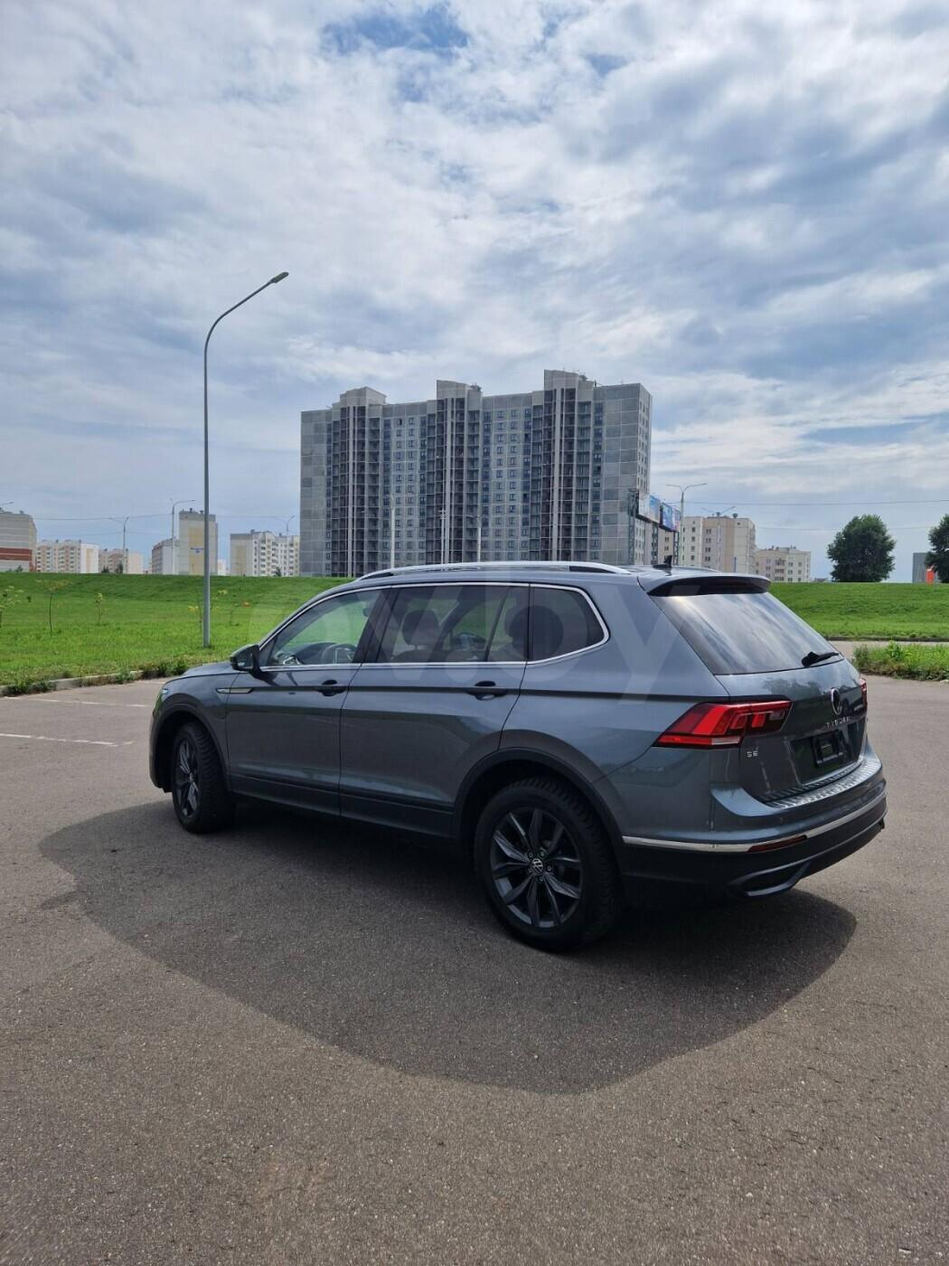Tiguan_2020-2024: (146, 555, 889, 955)
